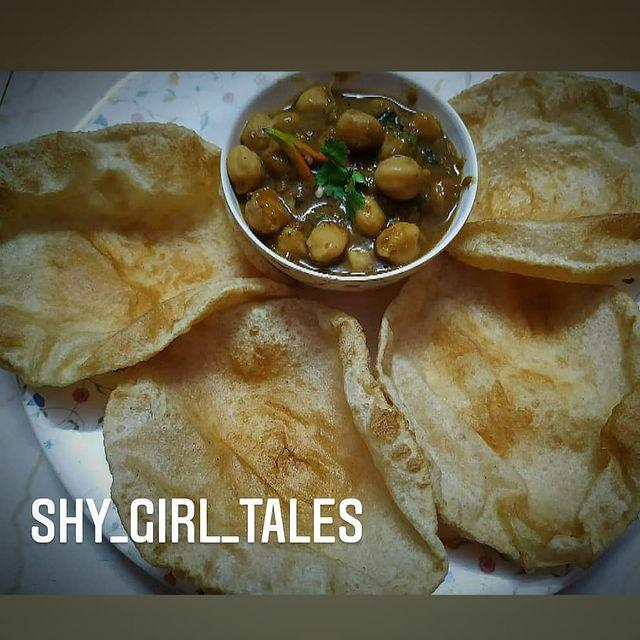Chole: (236, 84, 449, 276)
